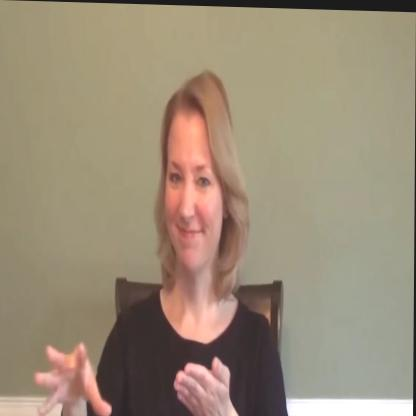Expensive: (35, 293, 239, 416)
